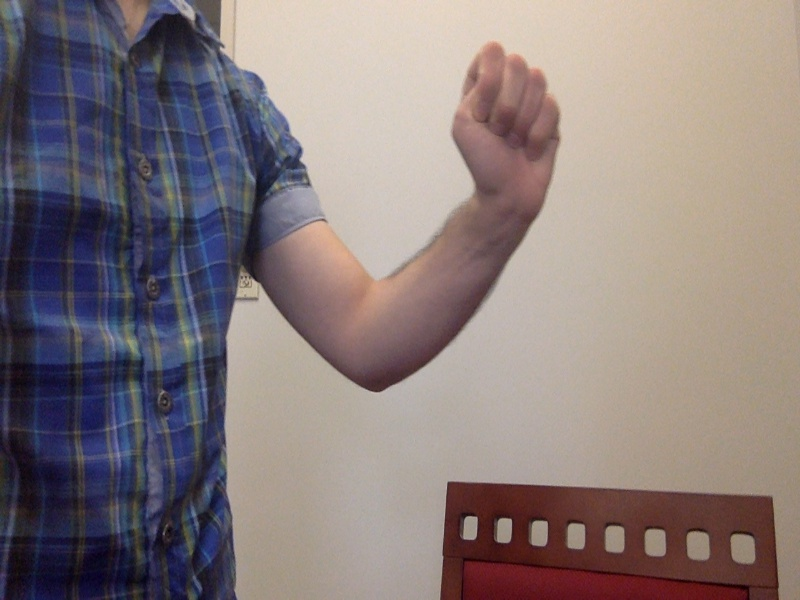0-hand: (449, 43, 567, 200)
